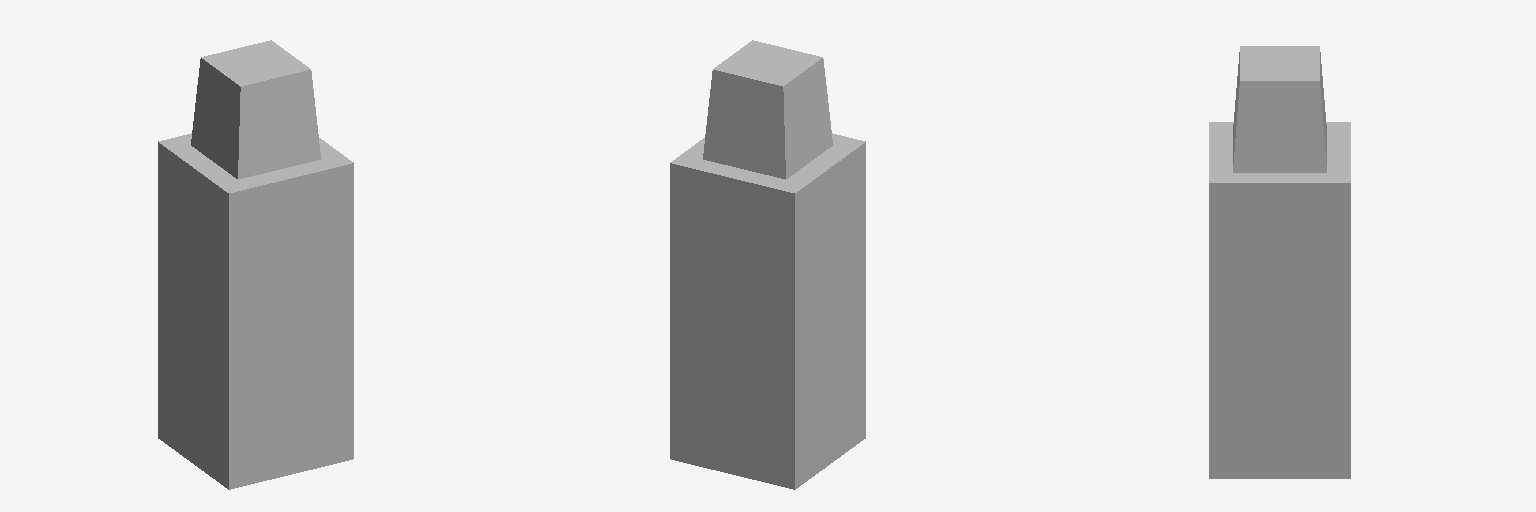
File: build.obj
The picture shows the model from 3 angles: view 1: azimuth 30°, elevation 25°; view 2: azimuth 150°, elevation 25°; view 3: azimuth 270°, elevation 25°; orthographic projection.
Parts seen in each view (by area): view 1: pCube1; view 2: pCube1; view 3: pCube1.
Part boxes in pixels (x1,y1,x2,y2): pCube1: (158, 40, 353, 489); pCube1: (670, 40, 865, 489); pCube1: (1209, 46, 1350, 478).
Size of the model in its own units: 1.02 by 2.99 by 1.